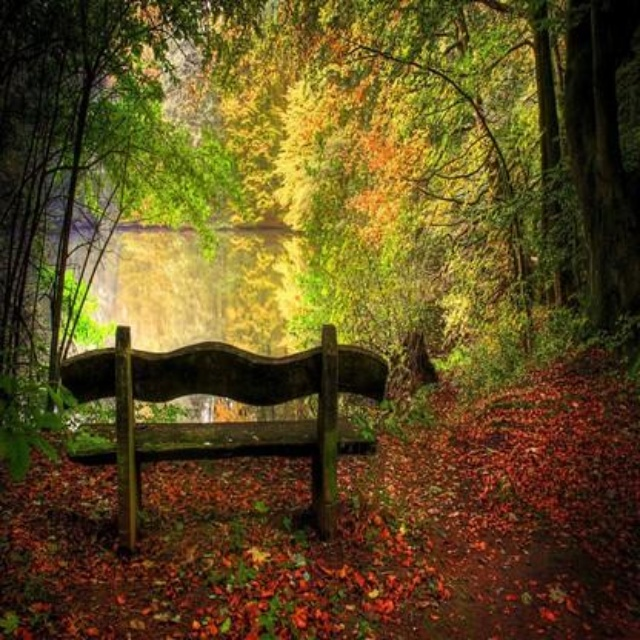obstacle: (42, 305, 414, 545)
